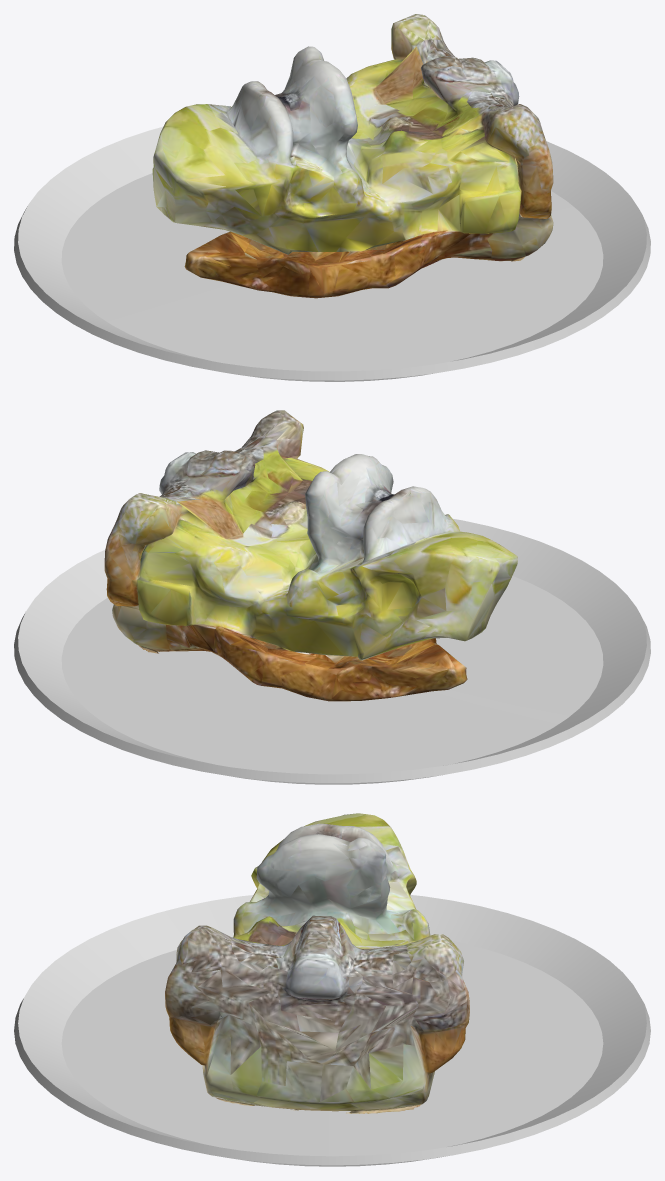
Rendered from LetMeEatCake_02.glb.
3 renders of one model, top to bottom at view 1: azimuth 30°, elevation 25°; view 2: azimuth 150°, elevation 25°; view 3: azimuth 270°, elevation 25°, orthographic.
Visible parts, largest first — view 1: Meshy_AI_Mosaic_Tooth_on_Pink_0429064422_texture.001, Cube.005; view 2: Meshy_AI_Mosaic_Tooth_on_Pink_0429064422_texture.001, Cube.005; view 3: Cube.005, Meshy_AI_Mosaic_Tooth_on_Pink_0429064422_texture.001.
Part boxes in pixels (box(x1,y1,x2,y2)): Meshy_AI_Mosaic_Tooth_on_Pink_0429064422_texture.001: box(152, 14, 553, 298); Cube.005: box(14, 127, 650, 381); Meshy_AI_Mosaic_Tooth_on_Pink_0429064422_texture.001: box(104, 410, 517, 701); Cube.005: box(14, 519, 650, 784); Cube.005: box(14, 895, 650, 1166); Meshy_AI_Mosaic_Tooth_on_Pink_0429064422_texture.001: box(165, 813, 469, 1113).
Size of the model in its own units: 0.28 by 0.1018 by 0.28.
Materials: 2 (1 with a texture image).
